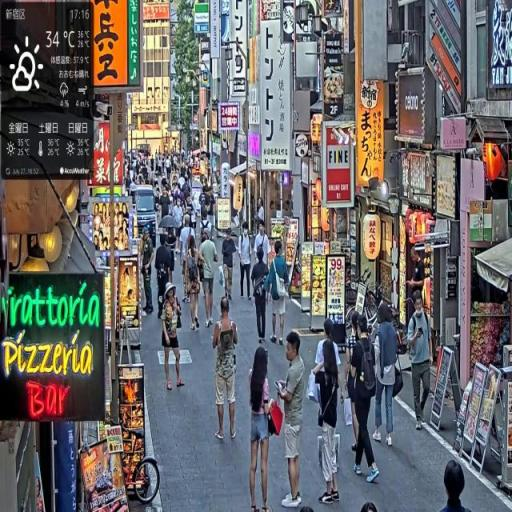person: (272, 330, 307, 510), (349, 315, 380, 481), (249, 343, 279, 512), (315, 328, 342, 509), (373, 303, 401, 453), (406, 292, 436, 432), (213, 296, 240, 443), (266, 242, 291, 347), (162, 284, 186, 391), (200, 230, 221, 328), (251, 247, 270, 345), (184, 243, 204, 332), (441, 458, 470, 512), (156, 236, 174, 320), (239, 225, 254, 305), (141, 231, 155, 316), (222, 228, 237, 305)
